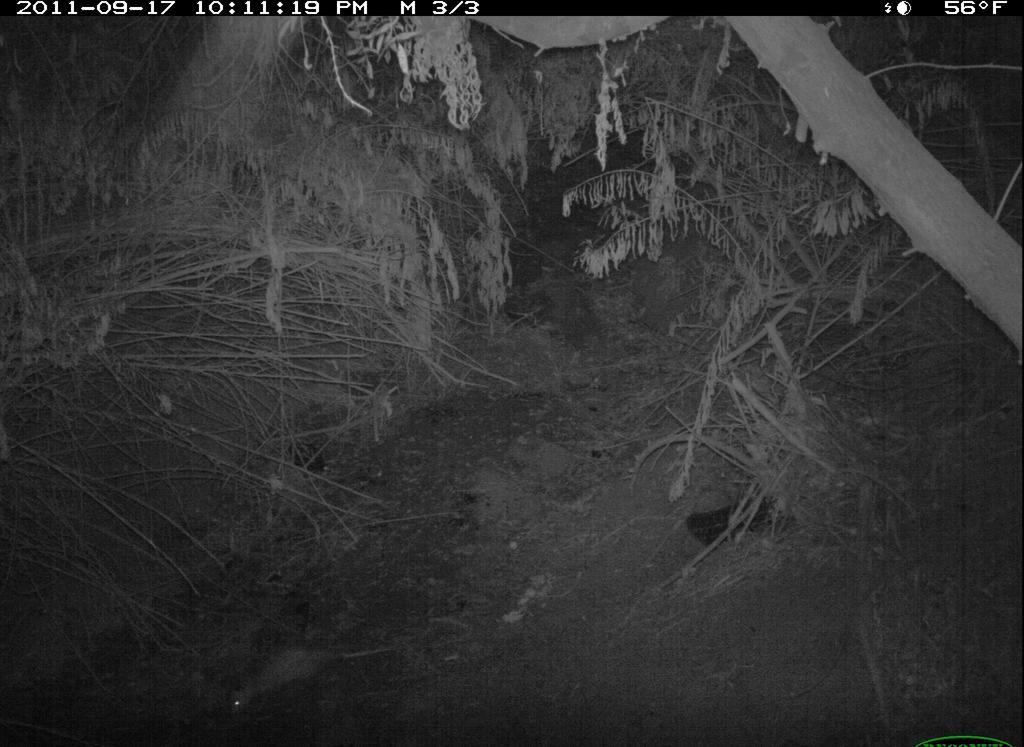opossum: (219, 630, 410, 724)
